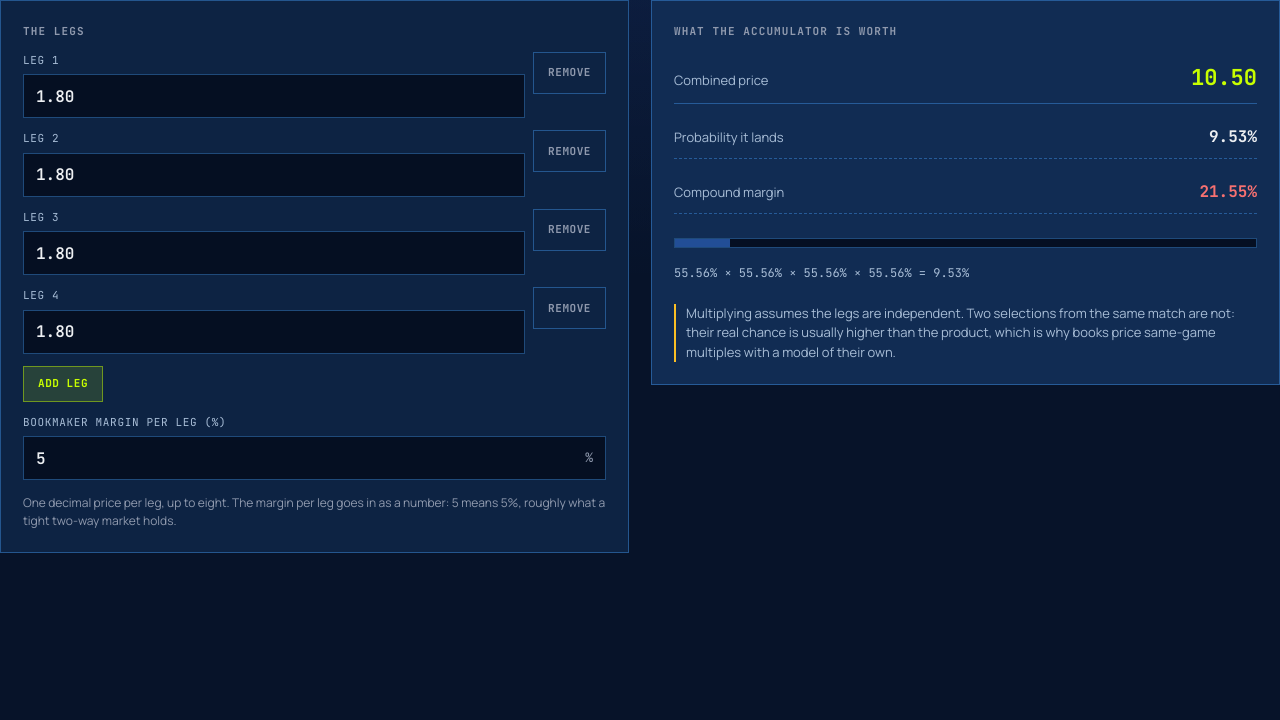
Test: parlay calculator › togliendo una gamba il margine composto scende in modo moltiplicativo
Click the button "Remove" in the row of "Leg 4" at x=570, y=308, box left=533, top=287, right=606, bottom=329
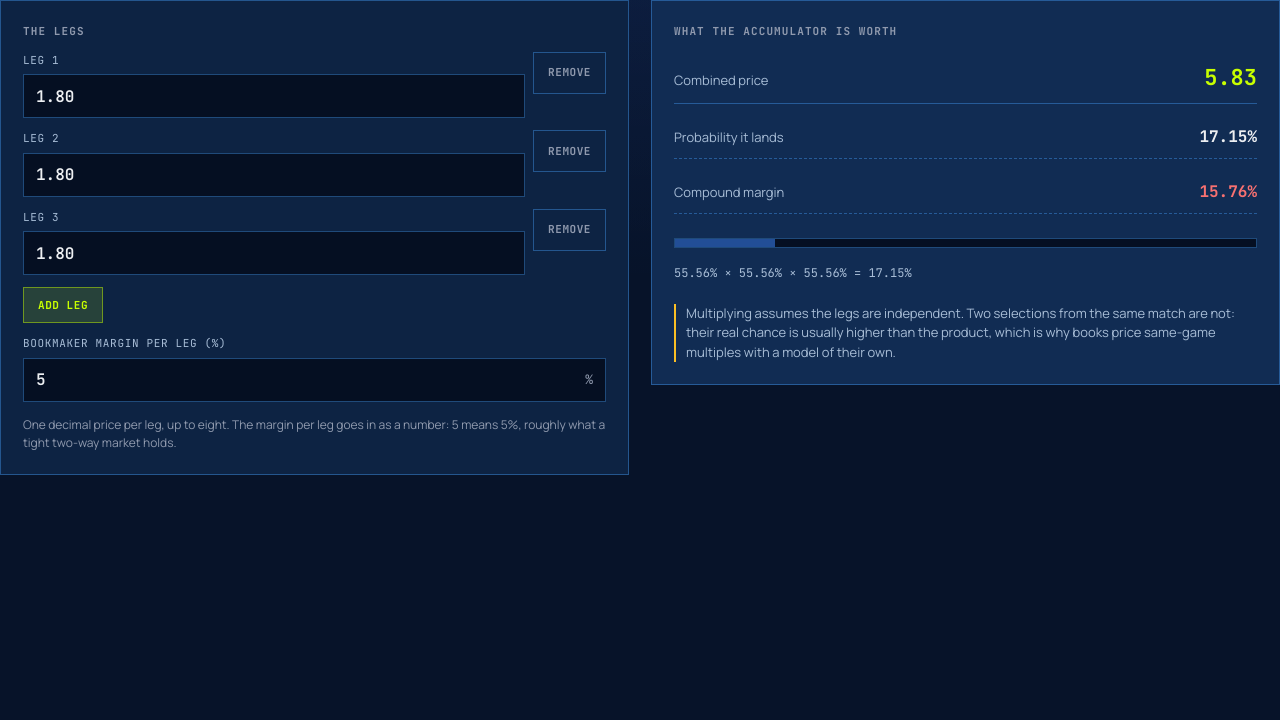
Now the text with test id "out-parlay-total" reads "5.83", box left=1204, top=62, right=1257, bottom=92
Now the text with test id "out-parlay-margin" reads "15.76%", box left=1199, top=180, right=1257, bottom=202
